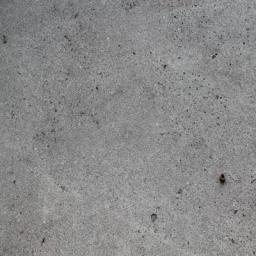FOD: (218, 171, 228, 187)
